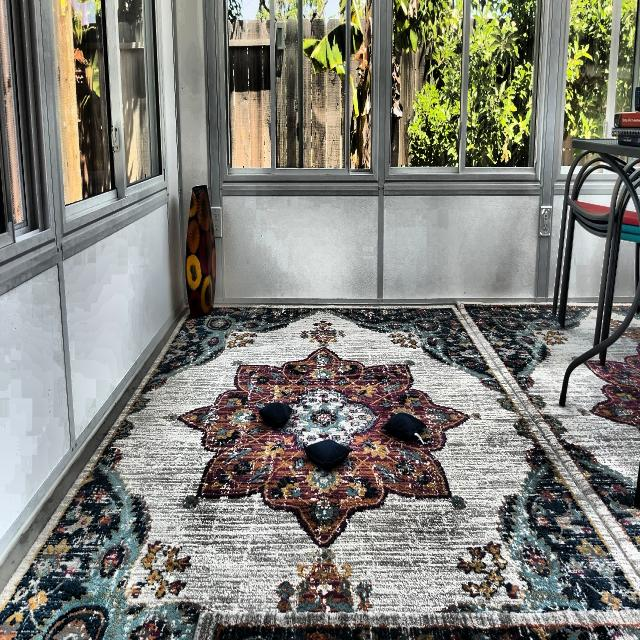blue-bean-bag: (303, 438, 352, 468), (383, 411, 425, 444), (259, 401, 292, 426)
